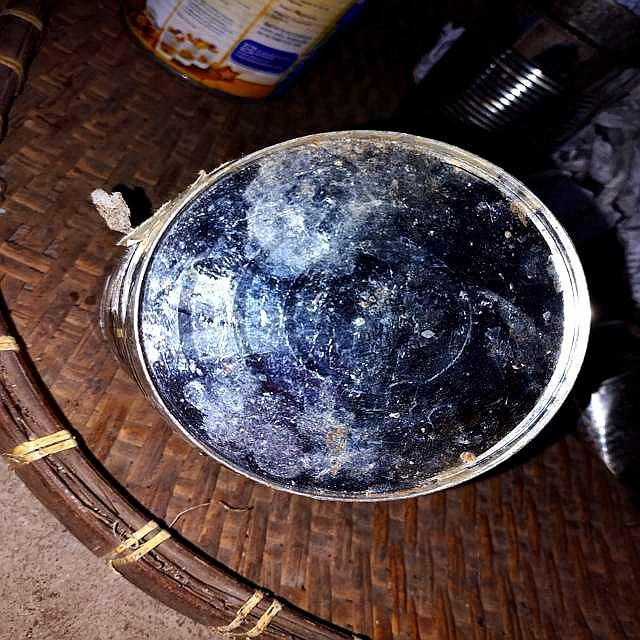Non-biodegradable: (99, 128, 593, 504)
